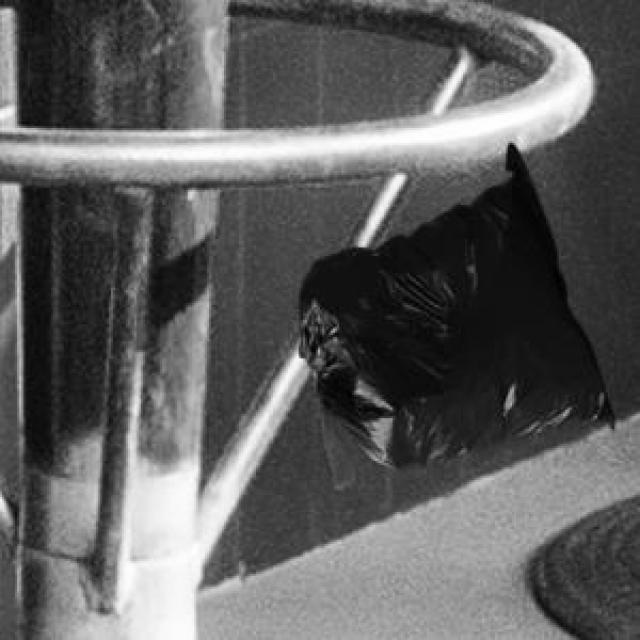miscellaneous trash: (294, 139, 610, 484)
